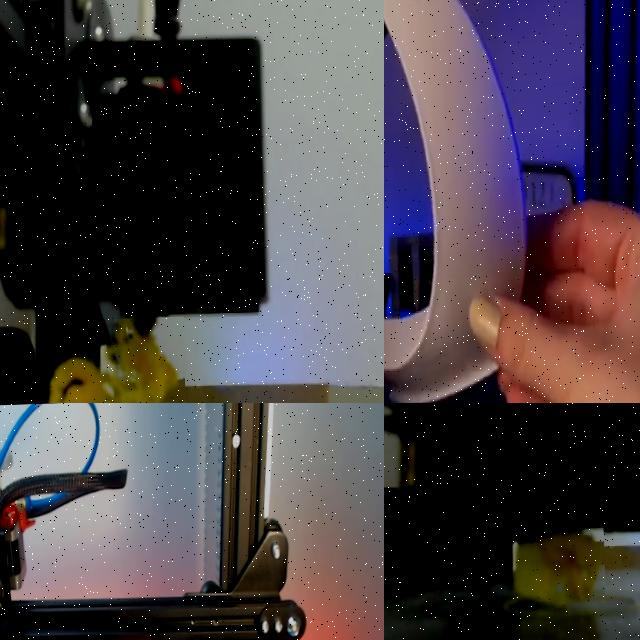spaghetti: (35, 316, 187, 403), (504, 526, 606, 602)
